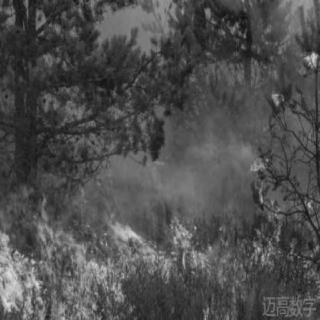Fire: (1, 156, 314, 316), (297, 44, 317, 74), (270, 88, 287, 109)
Smoke: (168, 138, 245, 208)
